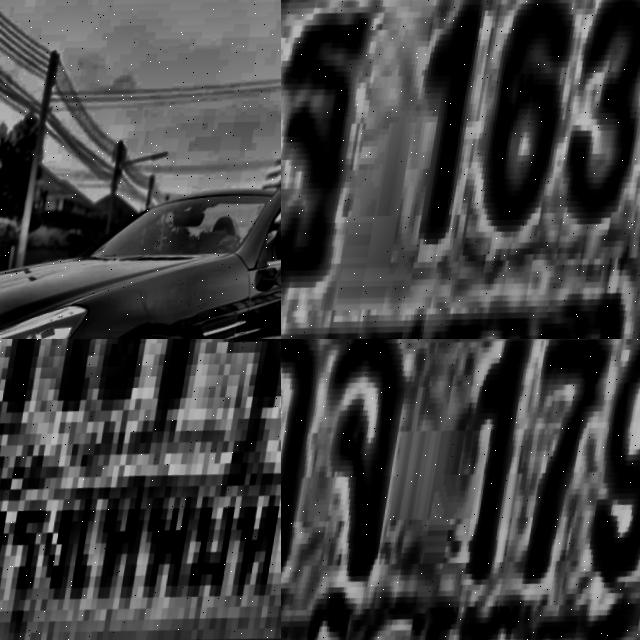license-plate: (281, 0, 640, 339), (281, 339, 640, 640), (0, 339, 281, 640)
